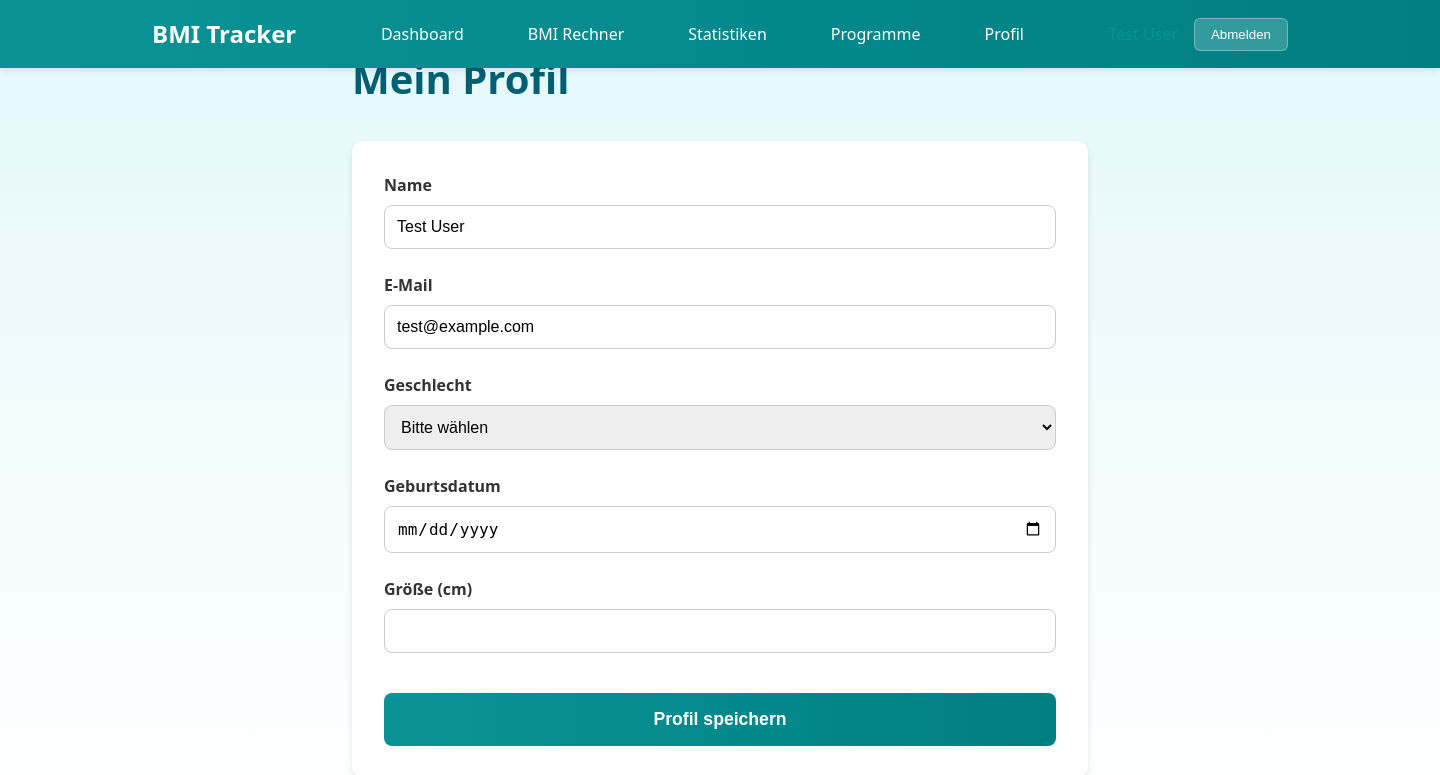
Test: Profile › displays error message on update failure
(page scrolled)
Expected: the field showing "Test User" below "Name" is shown, [384, 205, 1056, 249]
What coordinates should you click on to do the following:
click the button "Profil speichern"
I would click on:
 (720, 719)
Its box is [384, 693, 1056, 746].
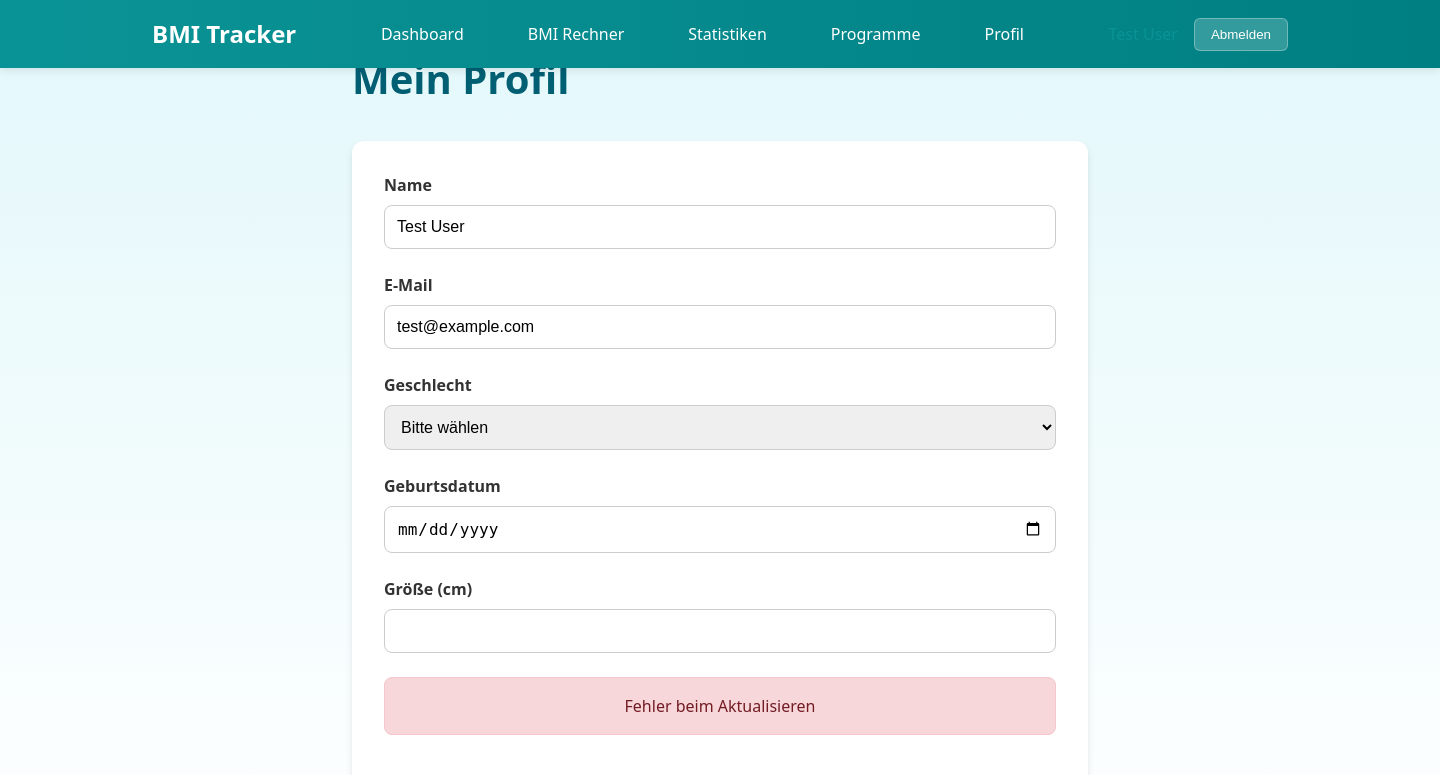
Expected: the text "Fehler beim Aktualisieren" is shown, [384, 677, 1056, 735]
